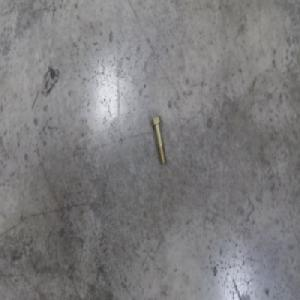Bolt: (148, 116, 164, 166)
